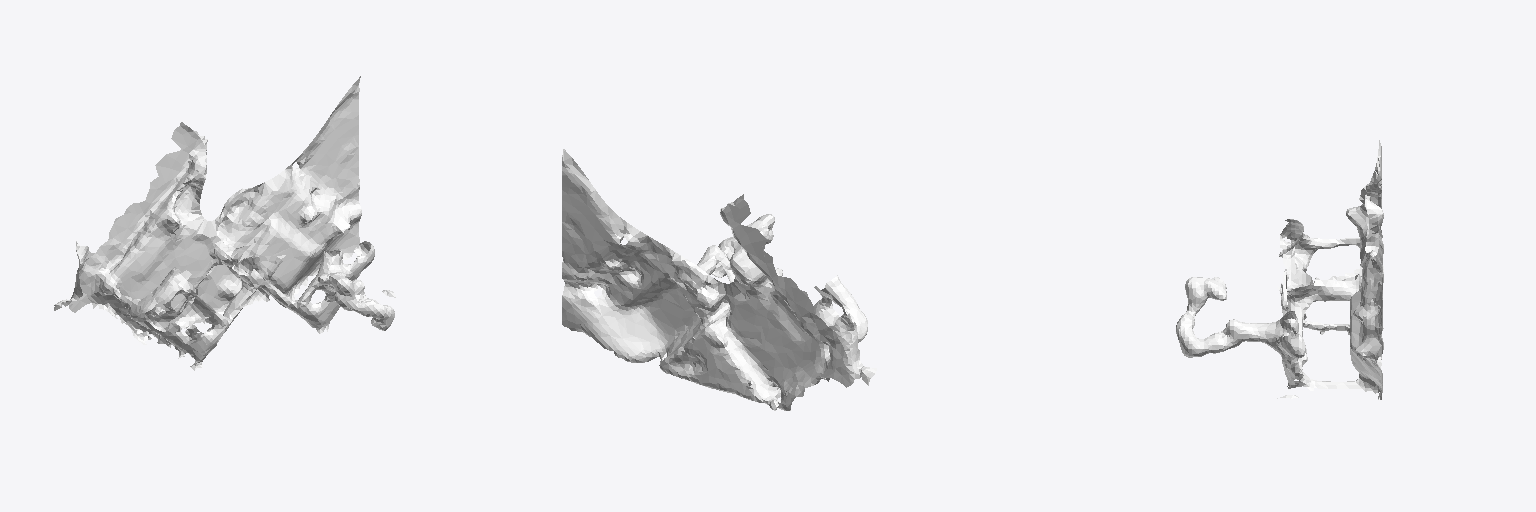
File: table_struc.obj
The picture shows the model from 3 angles: view 1: azimuth 30°, elevation 25°; view 2: azimuth 150°, elevation 25°; view 3: azimuth 270°, elevation 25°; orthographic projection.
Bounding box in the file's own units: 2.59 × 1.7 × 1.51.